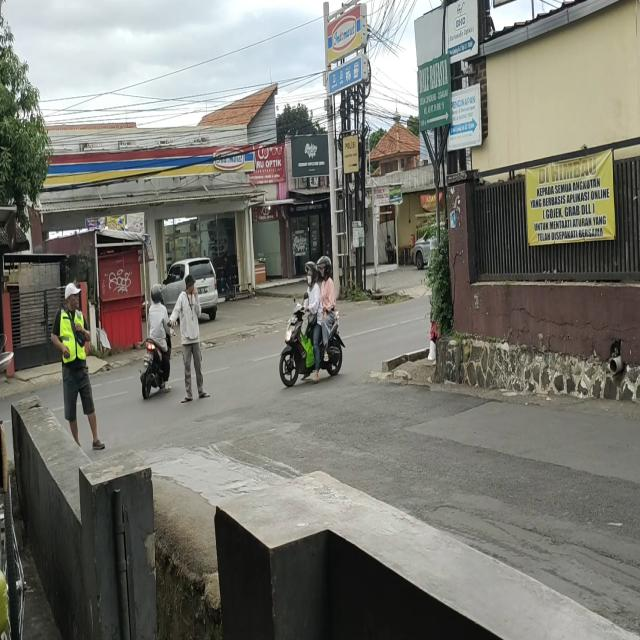helmet: (303, 262, 318, 290), (319, 259, 332, 281), (152, 280, 162, 304)
